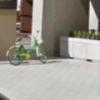bicycles: (6, 30, 45, 62)
